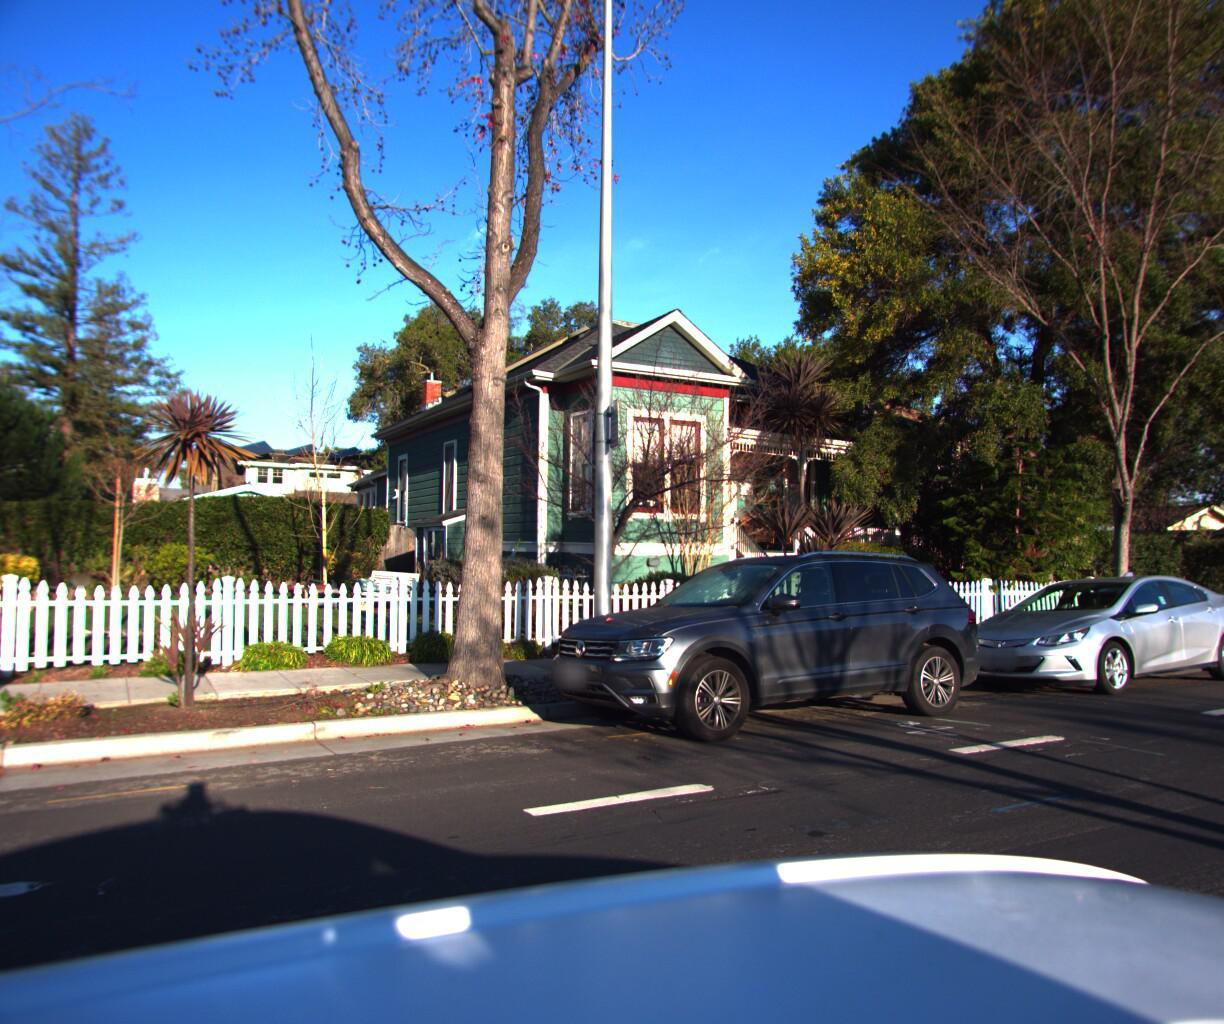car: (521, 541, 1005, 757), (912, 558, 1224, 709)
